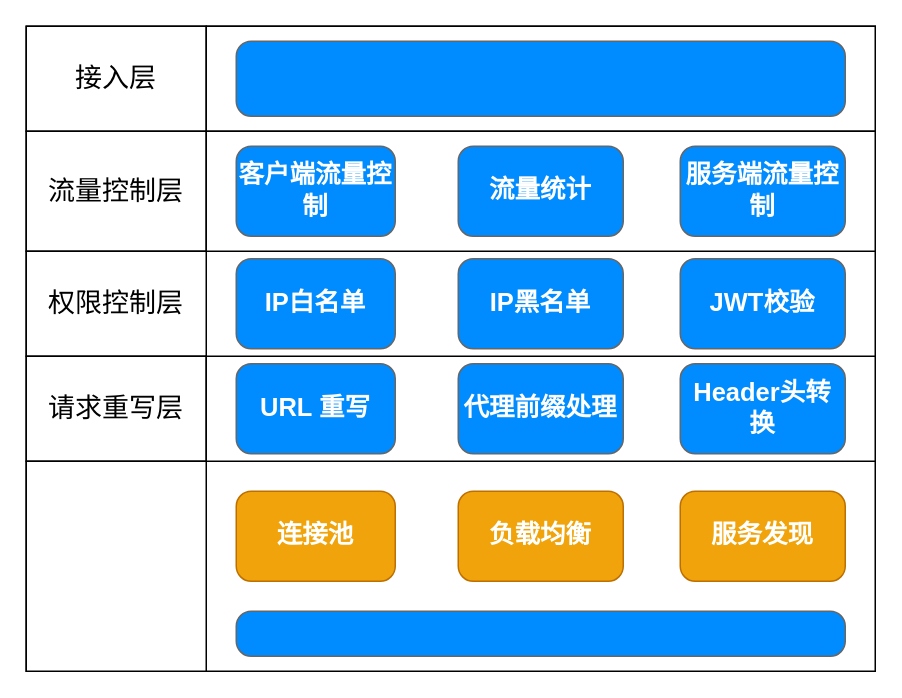
This 902x698 diagram has some shape labels left out. The shapes that lost their labels are listed below. From the top down, each one's centre as x and y in pixels, then its label:
(x=540, y=78): 接入方式：域名 / url 前缀
(x=115, y=565): 代理层
(x=540, y=633): HTTP代理层
